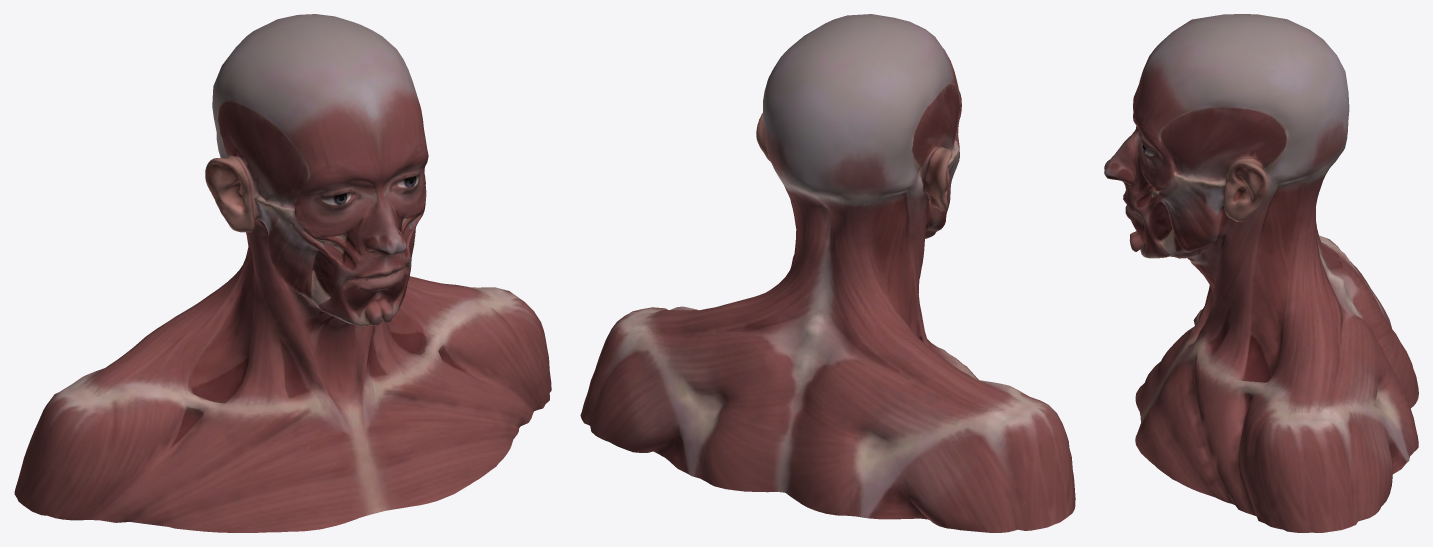
File: 头部肌肉_opt.glb
3 views of the same model, side by side, from view 1: azimuth 30°, elevation 25°; view 2: azimuth 150°, elevation 25°; view 3: azimuth 270°, elevation 25° (orthographic). The views are drawn at different scales.
Visible parts, largest first — view 1: LowPo003; view 2: LowPo003; view 3: LowPo003.
Boxes of the visible parts, x1,y1,x2,y2 form: LowPo003: (14,14,551,532); LowPo003: (580,14,1075,532); LowPo003: (1104,14,1418,532).
Bounding box in the file's own units: 0.4898 × 0.4 × 0.2879.
Materials: 2 (1 with a texture image).
